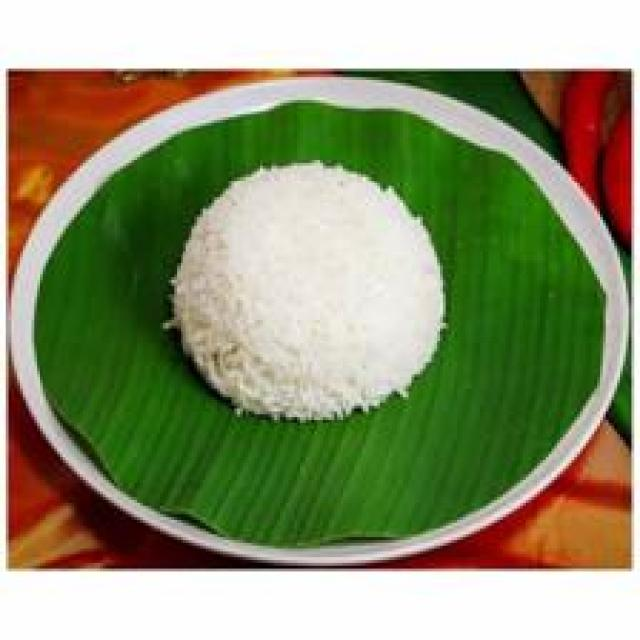Wet Waste: (170, 156, 456, 425)
